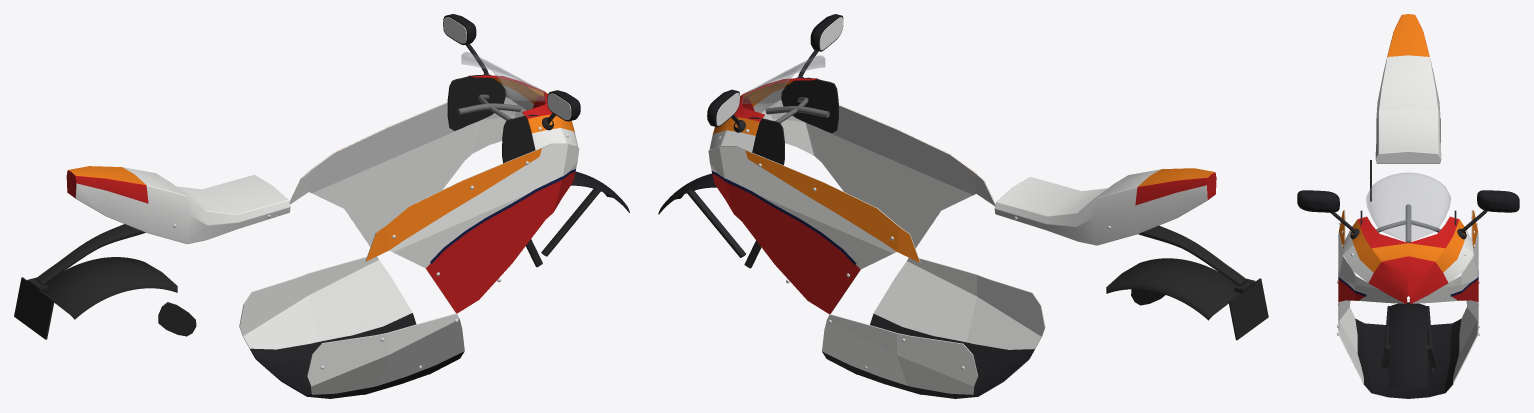
File: bike_superbike__bodywork.glb
3 views of the same model, side by side, from view 1: azimuth 30°, elevation 25°; view 2: azimuth 150°, elevation 25°; view 3: azimuth 270°, elevation 25° (orthographic). The views are drawn at different scales.
Visible parts, largest first — view 1: frame_body__fairing__side_right, frame_body__tail_unit, frame_body__fairing__side_right__lower, frame_body__fairing__side_left__lower, frame_body__fairing__side_left__red, frame_body__fairing__side_left, frame_body__rear_hugger, frame_body__fairing__side_left__orange, frame_body__fairing__belly_pan, frame_body__fairing__inner_panels, frame_body__number_plate_hanger, frame_body__fairing__upper (+7 smaller); view 2: frame_body__fairing__side_left, frame_body__tail_unit, frame_body__fairing__side_left__lower, frame_body__fairing__side_right__lower, frame_body__fairing__side_right__red, frame_body__fairing__side_right, frame_body__rear_hugger, frame_body__fairing__side_right__orange, frame_body__fairing__belly_pan, frame_body__fairing__inner_panels, frame_body__number_plate_hanger, frame_body__fairing__upper (+7 smaller); view 3: frame_body__tail_unit, frame_body__fairing__upper, frame_body__fairing__screen, frame_body__fairing__belly_pan, frame_body__front_mudguard, frame_body__fairing__mirrors, frame_body__fairing__side_left, frame_body__fairing__side_right, frame_body__fairing__side_right__lower, frame_body__fairing__side_left__lower, frame_body__front_mudguard__brackets, frame_body__fairing__stay (+3 smaller).
Boxes of the visible parts, x1,y1,x2,y2 form: frame_body__fairing__side_right: (289,97,525,246); frame_body__tail_unit: (66,166,290,244); frame_body__fairing__side_right__lower: (239,256,412,349); frame_body__fairing__side_left__lower: (307,313,464,394); frame_body__fairing__side_left__red: (426,172,575,313); frame_body__fairing__side_left: (365,144,579,311); frame_body__rear_hugger: (43,257,196,336); frame_body__fairing__side_left__orange: (366,148,541,261); frame_body__fairing__belly_pan: (250,313,464,398); frame_body__fairing__inner_panels: (447,75,538,163); frame_body__number_plate_hanger: (14,224,145,339); frame_body__fairing__upper: (469,75,577,150); frame_body__fairing__side_left: (761,100,995,248); frame_body__tail_unit: (994,168,1216,245); frame_body__fairing__side_left__lower: (873,258,1045,349); frame_body__fairing__side_right__lower: (822,314,977,394); frame_body__fairing__side_right__red: (712,174,860,314); frame_body__fairing__side_right: (708,146,920,312); frame_body__rear_hugger: (1106,258,1239,320); frame_body__fairing__side_right__orange: (745,150,919,262); frame_body__fairing__belly_pan: (822,313,1034,398); frame_body__fairing__inner_panels: (748,77,838,165); frame_body__number_plate_hanger: (1138,225,1268,340); frame_body__fairing__upper: (709,78,817,152); frame_body__tail_unit: (1375,14,1441,163); frame_body__fairing__upper: (1343,216,1473,304); frame_body__fairing__screen: (1366,173,1450,242); frame_body__fairing__belly_pan: (1355,318,1461,398); frame_body__front_mudguard: (1389,302,1427,387); frame_body__fairing__mirrors: (1297,190,1519,212); frame_body__fairing__side_left: (1338,210,1403,330); frame_body__fairing__side_right: (1413,210,1478,330); frame_body__fairing__side_right__lower: (1453,300,1478,383); frame_body__fairing__side_left__lower: (1338,300,1363,383); frame_body__front_mudguard__brackets: (1381,306,1435,372); frame_body__fairing__stay: (1376,204,1440,242).
Size of the model in its own units: 194 by 91.25 by 73.
